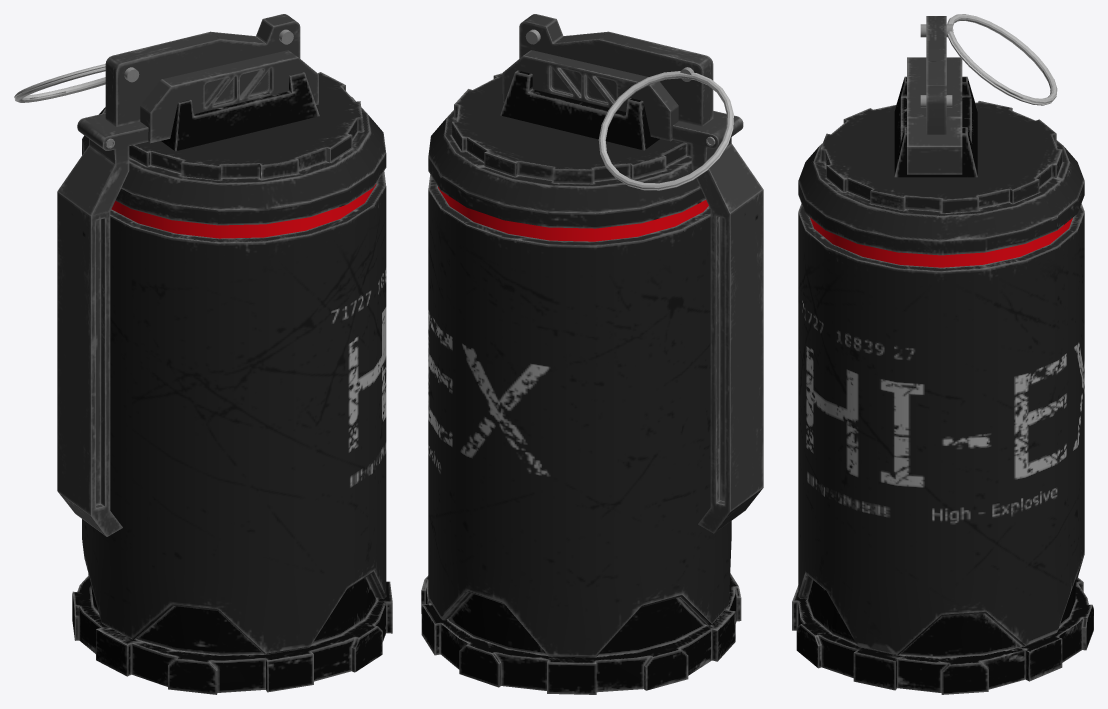
The model's file is Hi-Ex Grenade Parts.fbx.
The picture shows the model from 3 angles, left to right: view 1: azimuth 30°, elevation 25°; view 2: azimuth 150°, elevation 25°; view 3: azimuth 270°, elevation 25°; orthographic projection. The views are drawn at different scales.
Visible parts, largest first — view 1: Body, Handle, Pin; view 2: Body, Handle, Pin; view 3: Body, Pin.
Part boxes in pixels (left/top/right/bottom): Body: left=72, top=14, right=392, bottom=694; Handle: left=57, top=113, right=148, bottom=536; Pin: left=14, top=64, right=105, bottom=102; Body: left=421, top=14, right=741, bottom=694; Handle: left=672, top=111, right=763, bottom=533; Pin: left=598, top=71, right=733, bottom=190; Body: left=792, top=16, right=1093, bottom=694; Pin: left=947, top=14, right=1057, bottom=105.
Size of the model in its own units: 19.35 by 34.62 by 16.81.
